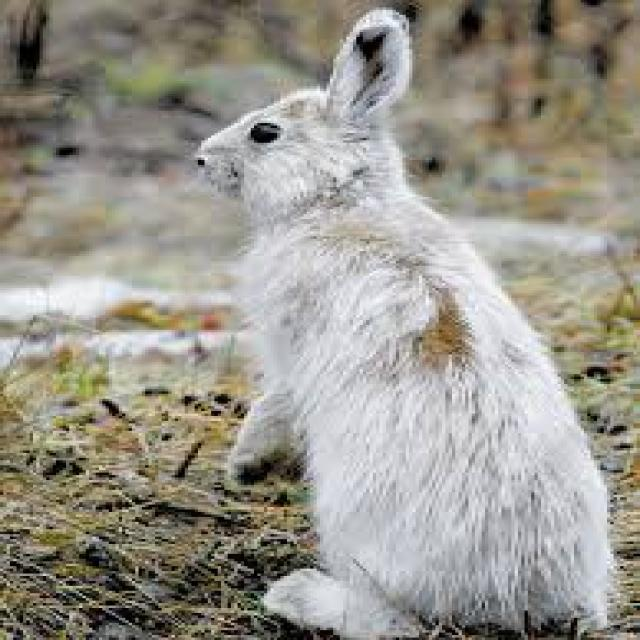Hare: (178, 7, 627, 640)
